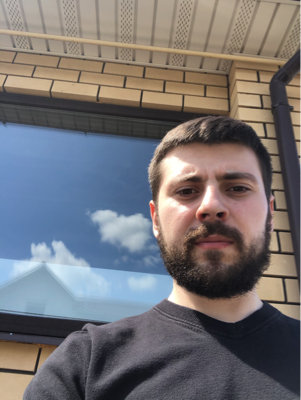without_mask: (163, 164, 269, 299)
